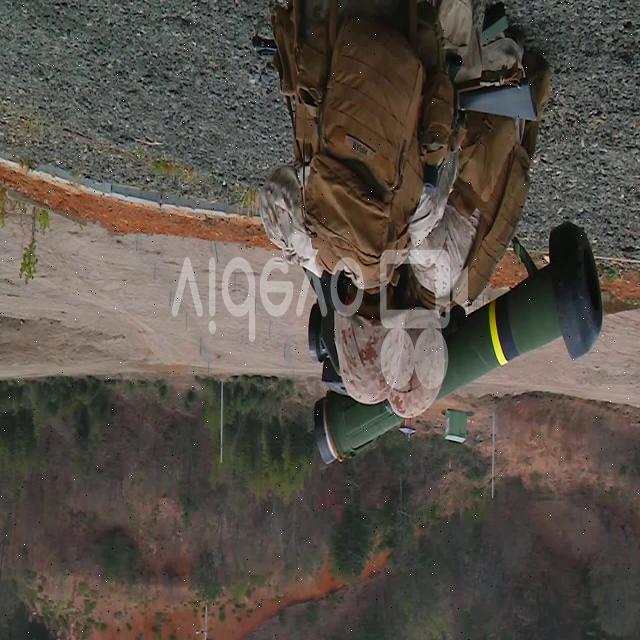bazooka: (311, 215, 612, 476)
